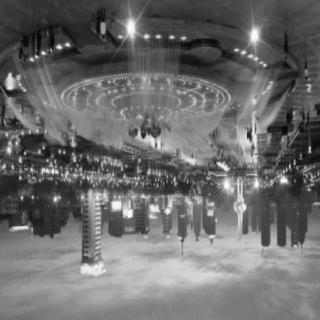other: (60, 70, 236, 152), (235, 22, 268, 62), (242, 104, 260, 176), (77, 187, 107, 225), (121, 10, 141, 44), (3, 76, 23, 102)
